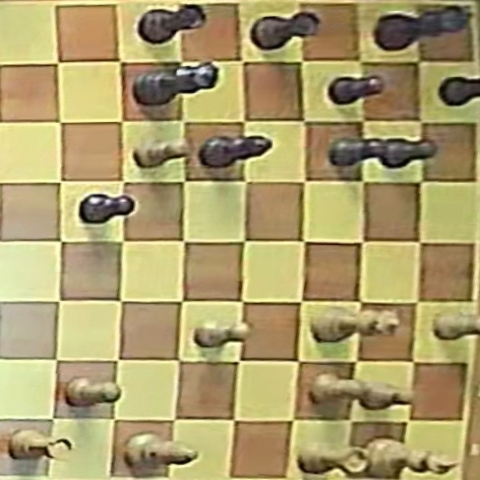black-bishop: (200, 135, 271, 168)
black-king: (376, 5, 469, 51)
black-pawn: (330, 136, 390, 168), (378, 137, 438, 169), (328, 75, 384, 105), (81, 193, 135, 224), (440, 75, 480, 106)
black-queen: (134, 62, 217, 105)
black-rook: (138, 4, 206, 45), (253, 12, 320, 50)
white-bishop: (123, 432, 197, 471)
white-king: (369, 438, 456, 476)
white-pawn: (305, 373, 365, 406), (134, 137, 190, 168), (357, 380, 414, 408), (66, 377, 120, 406), (195, 322, 251, 347), (434, 310, 478, 340)
white-queen: (312, 307, 399, 342)
white-rook: (299, 442, 371, 475), (8, 428, 72, 460)
